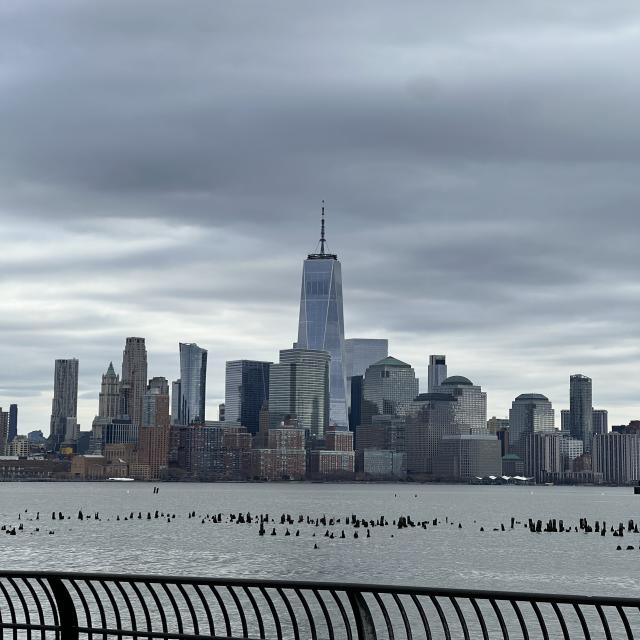WTC: (296, 199, 347, 349)
